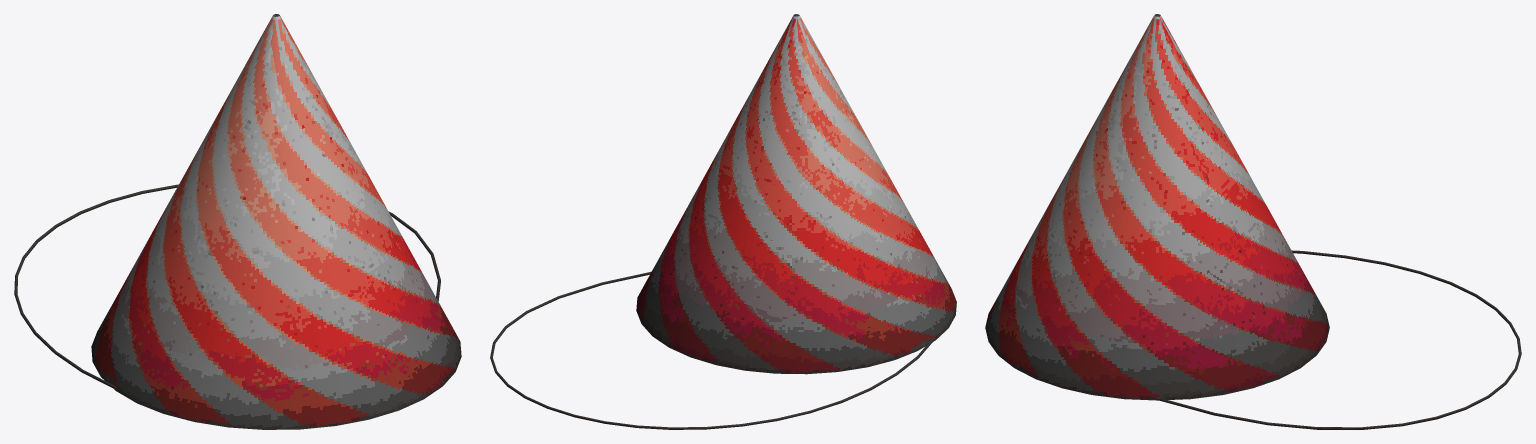
File: wear_party.glb
3 renders of one model, left to right at view 1: azimuth 30°, elevation 25°; view 2: azimuth 150°, elevation 25°; view 3: azimuth 270°, elevation 25°, orthographic. The views are drawn at different scales.
Visible parts, largest first — view 1: mesh; view 2: mesh; view 3: mesh.
Boxes of the visible parts, x1=… form: mesh: x1=14, y1=14, x2=461, y2=429; mesh: x1=490, y1=14, x2=956, y2=429; mesh: x1=985, y1=14, x2=1521, y2=429.
Bounding box in the file's own units: 0.2467 × 0.2 × 0.3114.
1 material, 1 textured.
